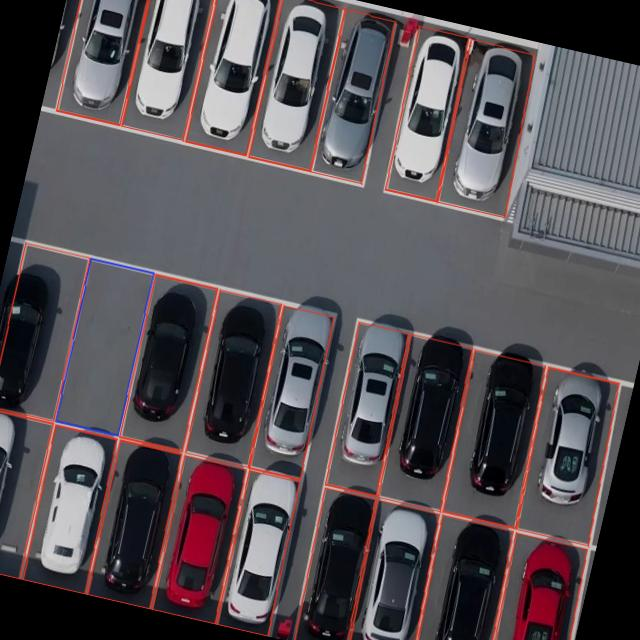car: (514, 363, 623, 544), (442, 343, 550, 524), (436, 35, 540, 213), (378, 328, 478, 510), (82, 432, 186, 605), (18, 417, 122, 590), (183, 286, 284, 464), (120, 271, 220, 448), (378, 24, 474, 202), (306, 5, 401, 184), (148, 450, 248, 620), (245, 0, 344, 169), (322, 316, 415, 493), (0, 238, 89, 420), (249, 300, 340, 474), (212, 464, 305, 634), (182, 0, 284, 154), (405, 508, 520, 640), (289, 482, 383, 640), (345, 496, 446, 640), (119, 0, 219, 138), (481, 528, 592, 640), (56, 0, 155, 123), (0, 400, 43, 572), (41, 0, 96, 110)
free: (51, 255, 156, 437)
